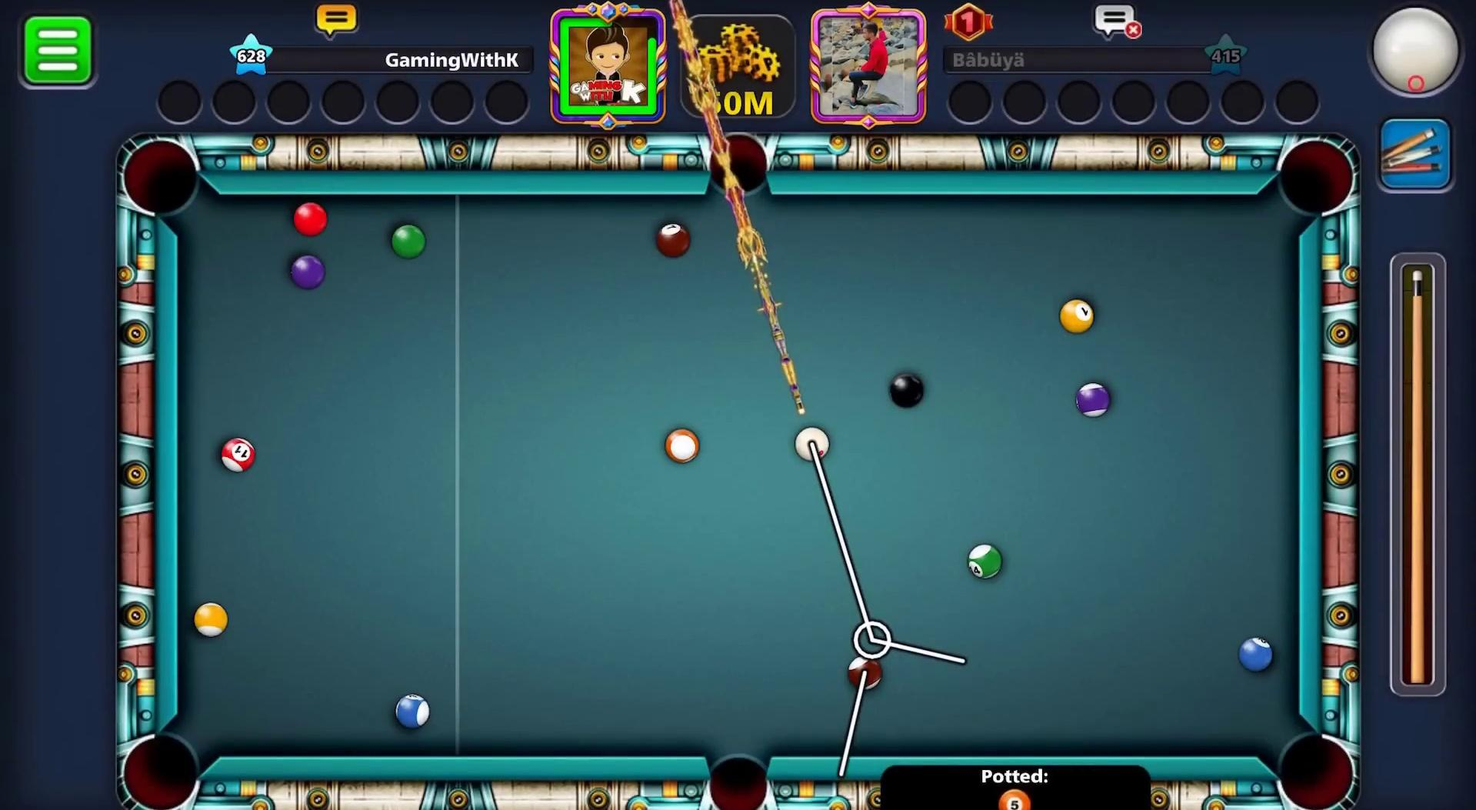Ball: (950, 533, 1014, 597), (646, 213, 704, 269), (1067, 373, 1120, 431), (655, 423, 705, 473), (281, 200, 336, 244), (391, 689, 438, 737), (285, 247, 329, 295), (216, 432, 260, 479), (885, 367, 927, 416), (844, 653, 887, 700), (1056, 297, 1101, 341), (385, 220, 431, 263), (190, 598, 233, 643), (1236, 631, 1275, 675)
Force: (1383, 248, 1460, 703)
Guideline: (803, 442, 976, 789)
Hole: (107, 112, 221, 241), (104, 709, 219, 810), (1264, 716, 1370, 810), (1277, 130, 1357, 241), (704, 118, 780, 216), (691, 740, 779, 810)
Play_Area: (178, 192, 1300, 758)
Spin: (1345, 0, 1476, 116)
White: (790, 414, 835, 468)
